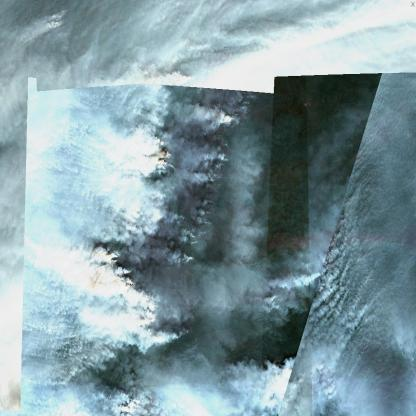fire: (176, 182, 219, 270), (203, 96, 242, 179), (100, 240, 140, 291), (161, 298, 198, 346), (148, 145, 181, 178), (306, 256, 333, 285)
